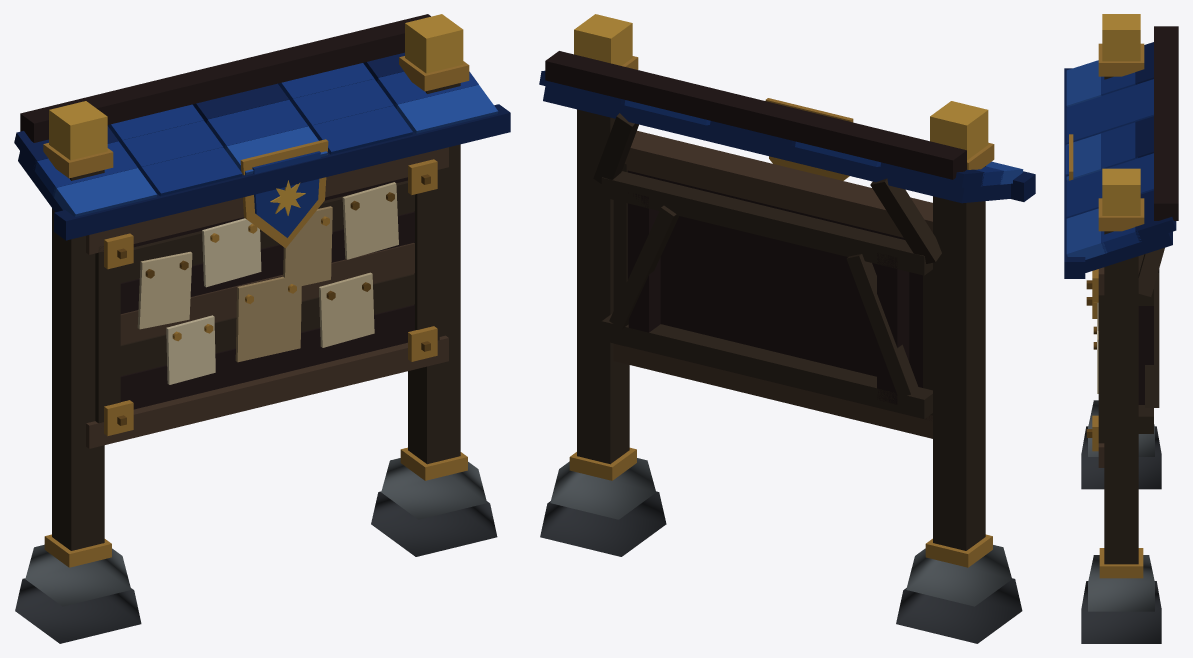
The model's file is fixture_noticeboard.glb.
The picture shows the model from 3 angles, left to right: view 1: azimuth 30°, elevation 25°; view 2: azimuth 150°, elevation 25°; view 3: azimuth 270°, elevation 25°; orthographic projection. The views are drawn at different scales.
Visible parts, largest first — view 1: fixture-noticeboard:structure:game/eastbrook_noticeboard/Eas (×2); view 2: fixture-noticeboard:structure:game/eastbrook_noticeboard/Eas (×2); view 3: fixture-noticeboard:structure:game/eastbrook_noticeboard/Eas (×2).
Part boxes in pixels (x1,y1,x2,y2): fixture-noticeboard:structure:game/eastbrook_noticeboard/Eas (×2): [14, 14, 510, 643]; fixture-noticeboard:structure:game/eastbrook_noticeboard/Eas (×2): [539, 14, 1035, 643]; fixture-noticeboard:structure:game/eastbrook_noticeboard/Eas (×2): [1064, 14, 1178, 643].
Bounding box in the file's own units: 1.75 × 1.9 × 0.4385.
